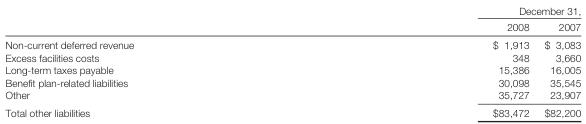table: (4, 4, 580, 118)
table column: (4, 4, 312, 118), (312, 4, 536, 118), (536, 4, 580, 118)
table column header: (4, 4, 580, 35)
table row: (4, 18, 580, 35), (4, 35, 580, 50), (4, 88, 580, 103), (4, 103, 580, 118), (4, 4, 580, 18), (4, 50, 580, 63), (4, 75, 580, 88), (4, 63, 580, 75)
table spanning cell: (312, 4, 580, 18)
